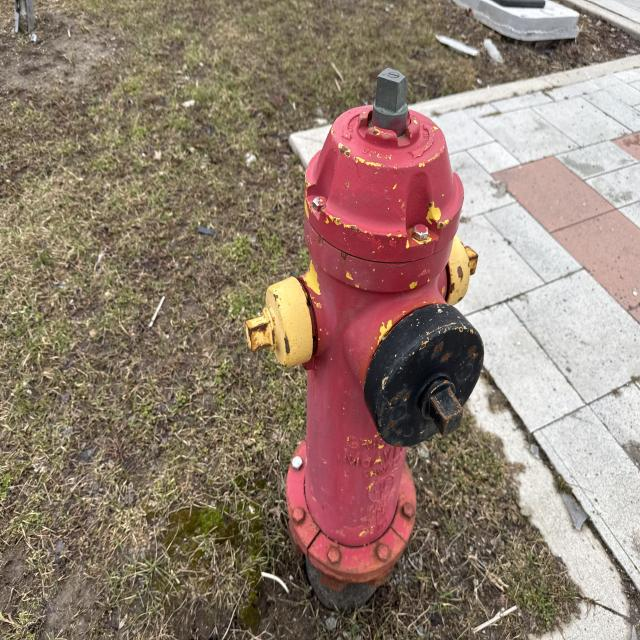Fire hydrant: (243, 67, 485, 595)
